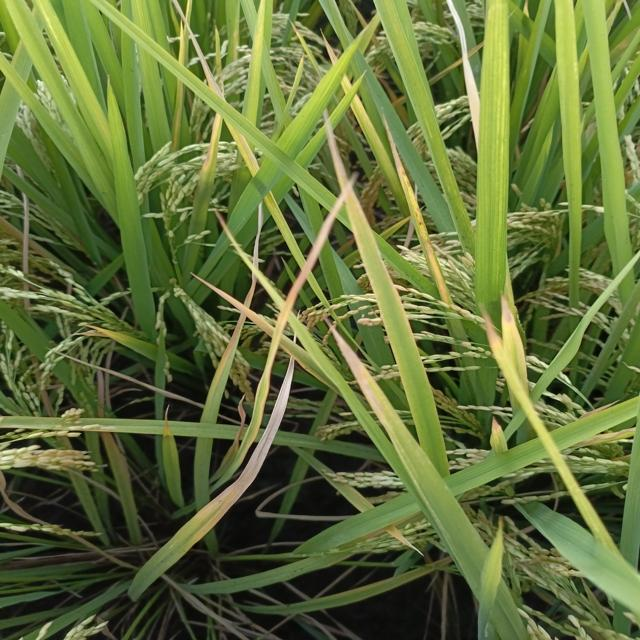Brown spot: (260, 164, 363, 364), (319, 104, 418, 298), (372, 103, 462, 299), (212, 332, 303, 523), (187, 266, 315, 374), (317, 309, 409, 443), (478, 284, 534, 382), (190, 81, 230, 191)
